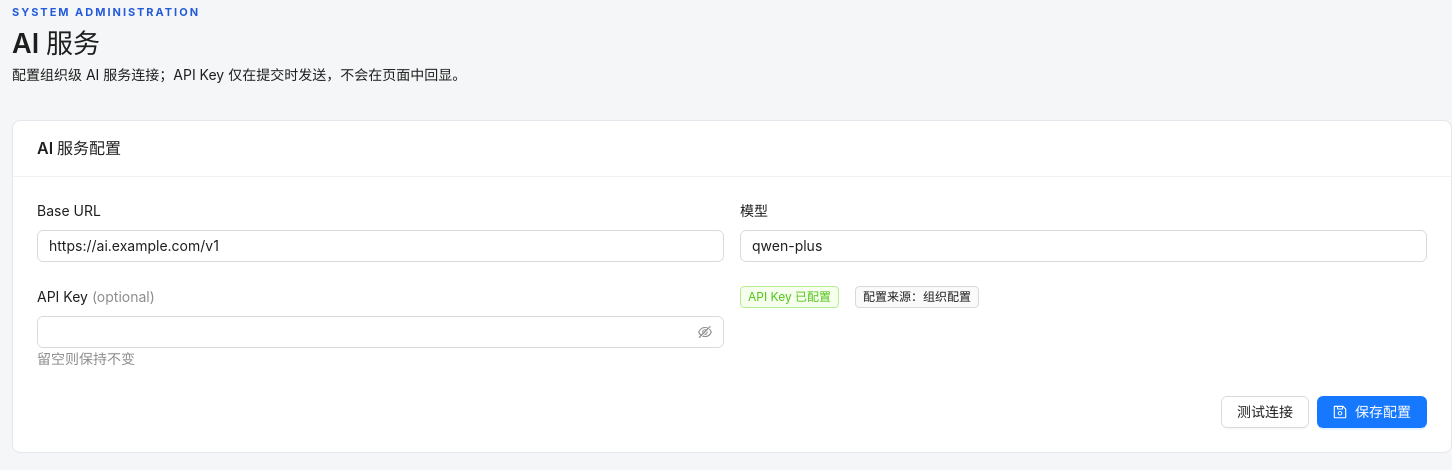
it: 拒绝不安全或非根路径的 Base URL：ftp://ai.example.com/v1
Step 1. Replace the text in the field labelled "Base URL" with "ftp://ai.example.com/v1" → [380, 246], box [37,230,724,262]
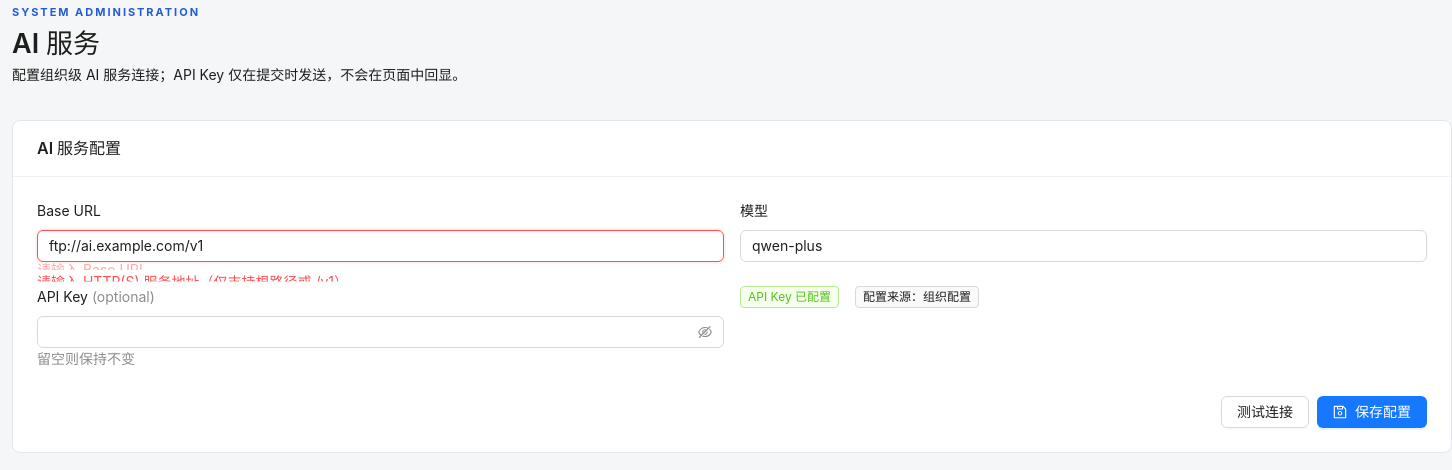
Step 2. Click the button "测试连接" → [1265, 412], box [1221,396,1309,428]
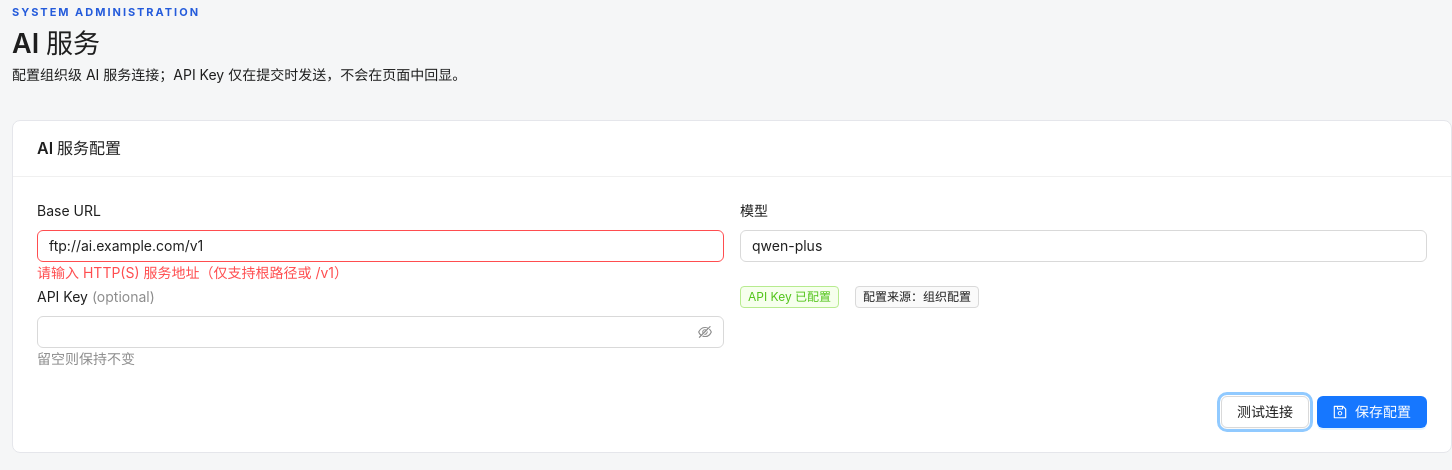
Now the text "请输入 HTTP(S) 服务地址（仅支持根路径或 /v1）" is shown, box [37,264,348,281]
